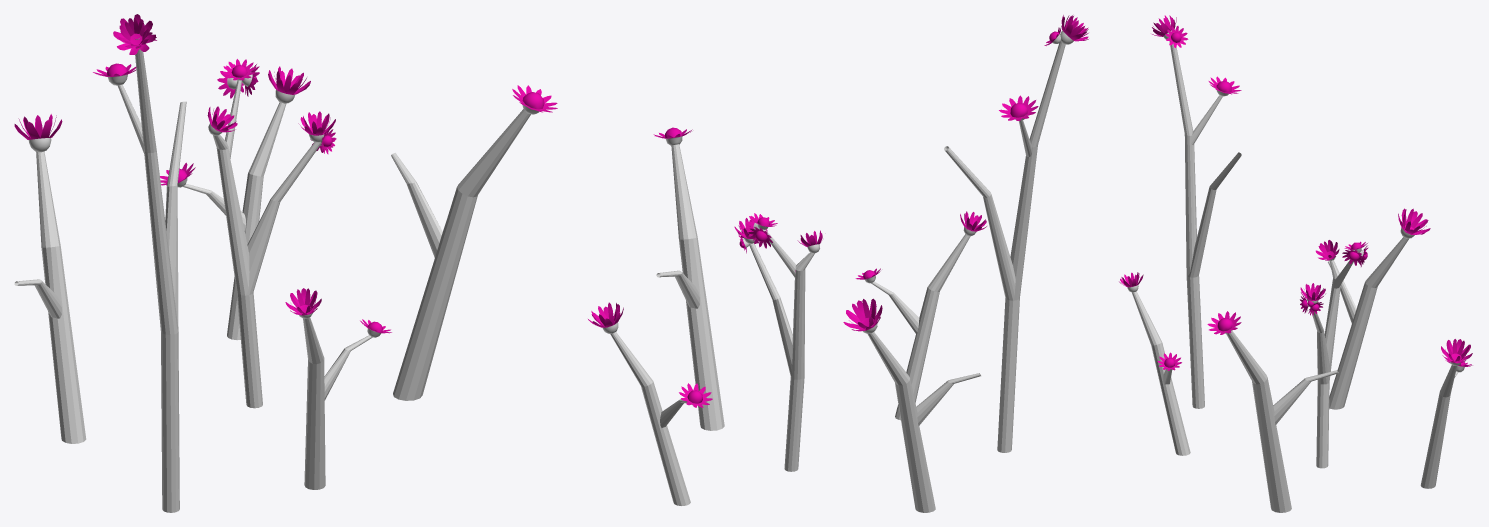
Rendered from suo-ohdake_iso.fbx.
3 views of the same model, side by side, from view 1: azimuth 30°, elevation 25°; view 2: azimuth 150°, elevation 25°; view 3: azimuth 270°, elevation 25° (orthographic). The views are drawn at different scales.
Visible parts, largest first — view 1: Suo-ohdake_iso; view 2: Suo-ohdake_iso; view 3: Suo-ohdake_iso.
Part boxes in pixels (bbox=[...]): Suo-ohdake_iso: bbox=[14, 14, 557, 512]; Suo-ohdake_iso: bbox=[588, 15, 1088, 512]; Suo-ohdake_iso: bbox=[1119, 15, 1472, 512].
Bounding box in the file's own units: 108 × 112 × 97.78.
